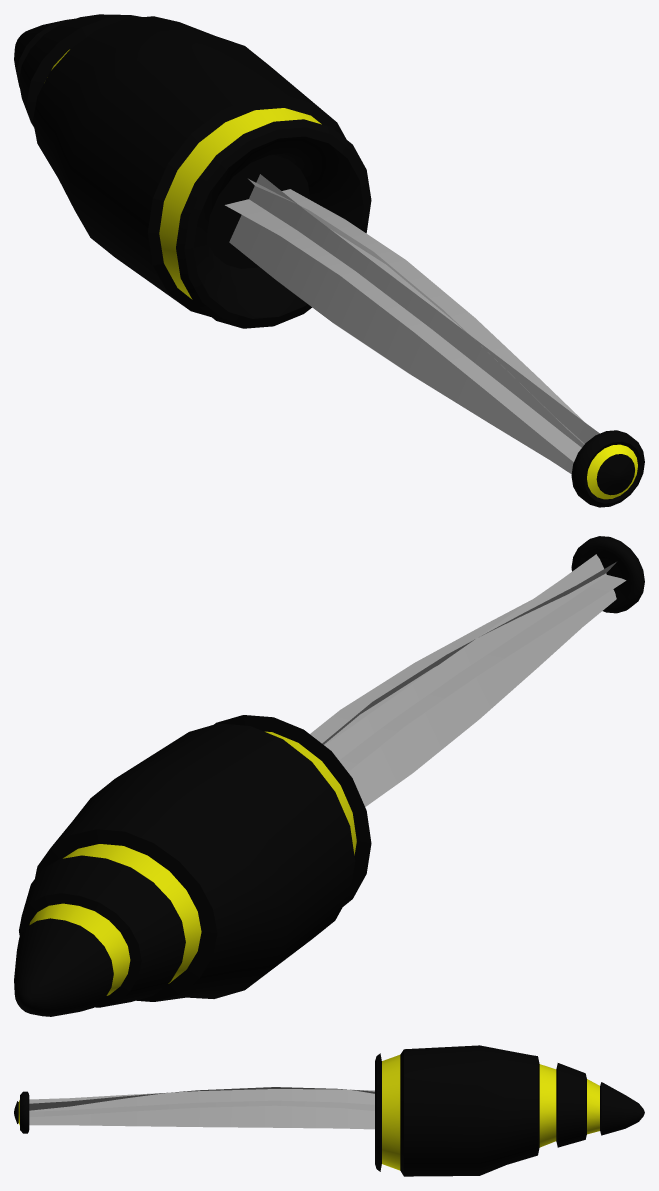
Rendered from enemy_snail.fbx.
The picture shows the model from 3 angles, top to bottom: view 1: azimuth 30°, elevation 25°; view 2: azimuth 150°, elevation 25°; view 3: azimuth 270°, elevation 25°; orthographic projection. The views are drawn at different scales.
Visible parts, largest first — view 1: Body1, Neck2, Neck, Head, Neck1; view 2: Body1, Neck2, Neck, Head, Neck1; view 3: Body1, Neck1, Neck, Neck2, Head.
Boxes of the visible parts, x1,y1,x2,y2 form: Body1: (14, 14, 371, 328); Neck2: (229, 174, 599, 473); Neck: (225, 189, 583, 461); Head: (571, 430, 644, 507); Neck1: (248, 178, 584, 444); Body1: (14, 715, 371, 1016); Neck2: (325, 554, 616, 806); Neck: (310, 575, 626, 771); Head: (571, 536, 644, 613); Neck1: (322, 562, 616, 744); Body1: (375, 1045, 644, 1176); Neck1: (29, 1089, 374, 1129); Neck: (29, 1100, 374, 1117); Neck2: (29, 1087, 374, 1110); Head: (14, 1091, 29, 1133).
Bounding box in the file's own units: 45.51 × 44.31 × 212.
